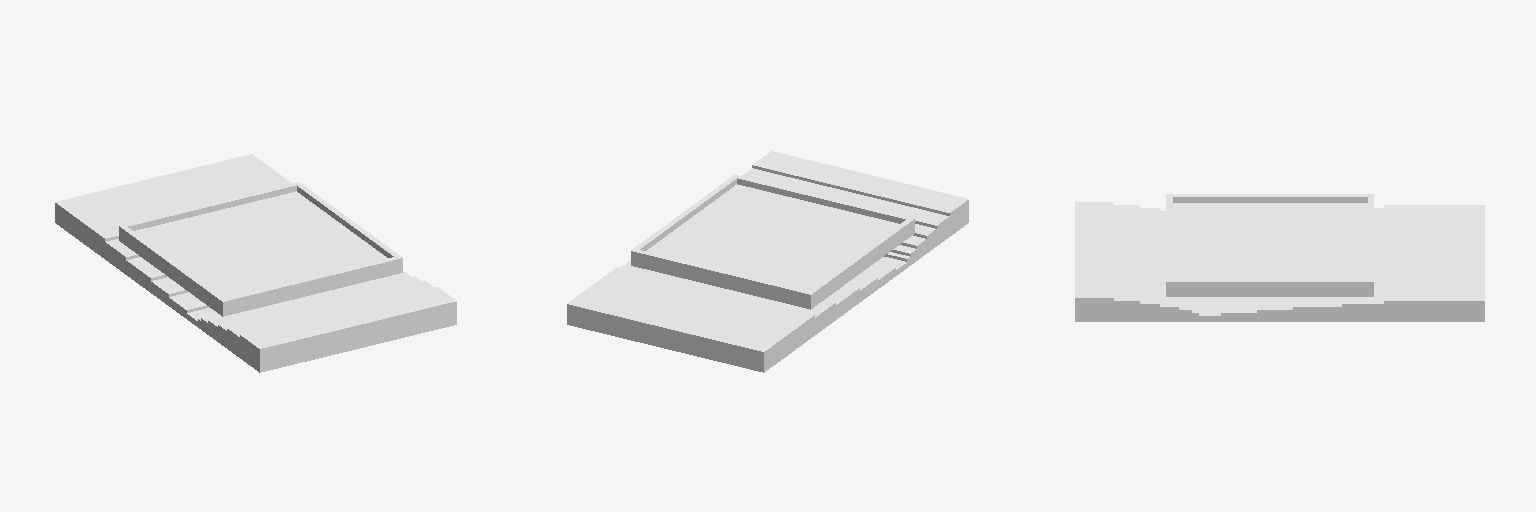
Rendered from SwaiftBall_BG.obj.
3 renders of one model, left to right at view 1: azimuth 30°, elevation 25°; view 2: azimuth 150°, elevation 25°; view 3: azimuth 270°, elevation 25°, orthographic.
Bounding box in the file's own units: 70 × 12 × 126.